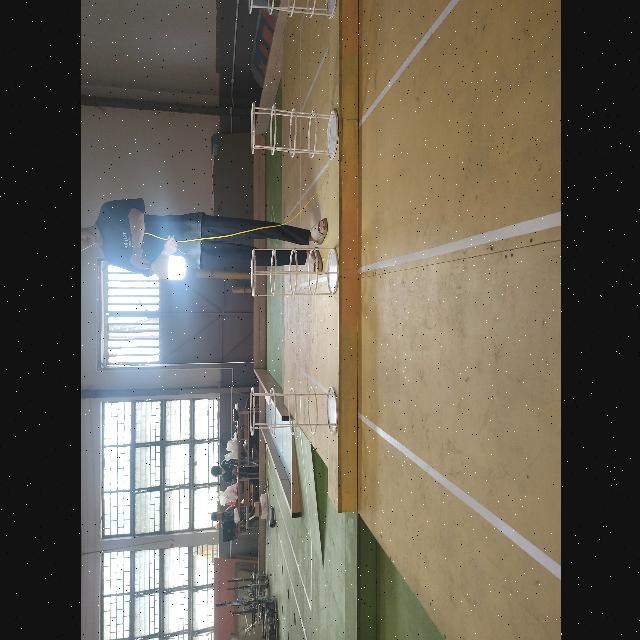S: (250, 101, 336, 162), (246, 384, 340, 438), (248, 245, 338, 298), (244, 1, 342, 22)
